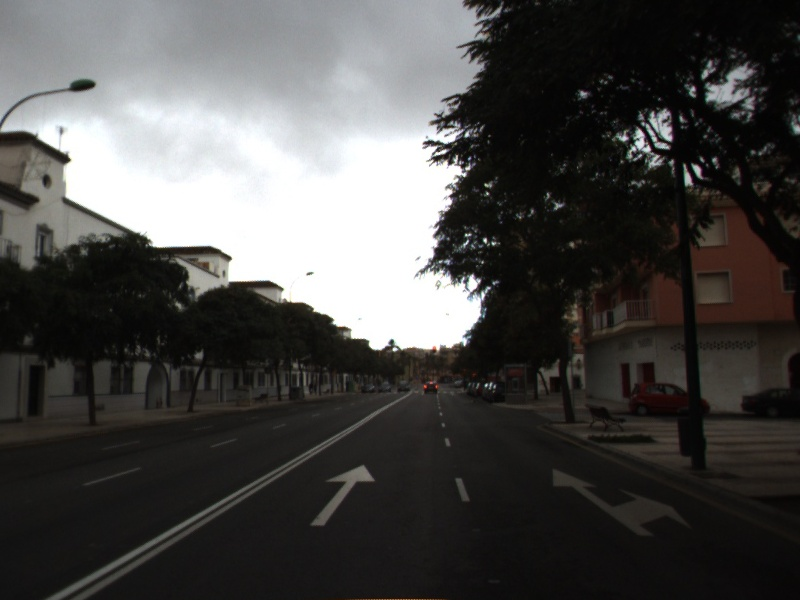STRAIGHT: (309, 462, 377, 527)
STRAIGHT_RIGHT: (550, 466, 694, 538)
